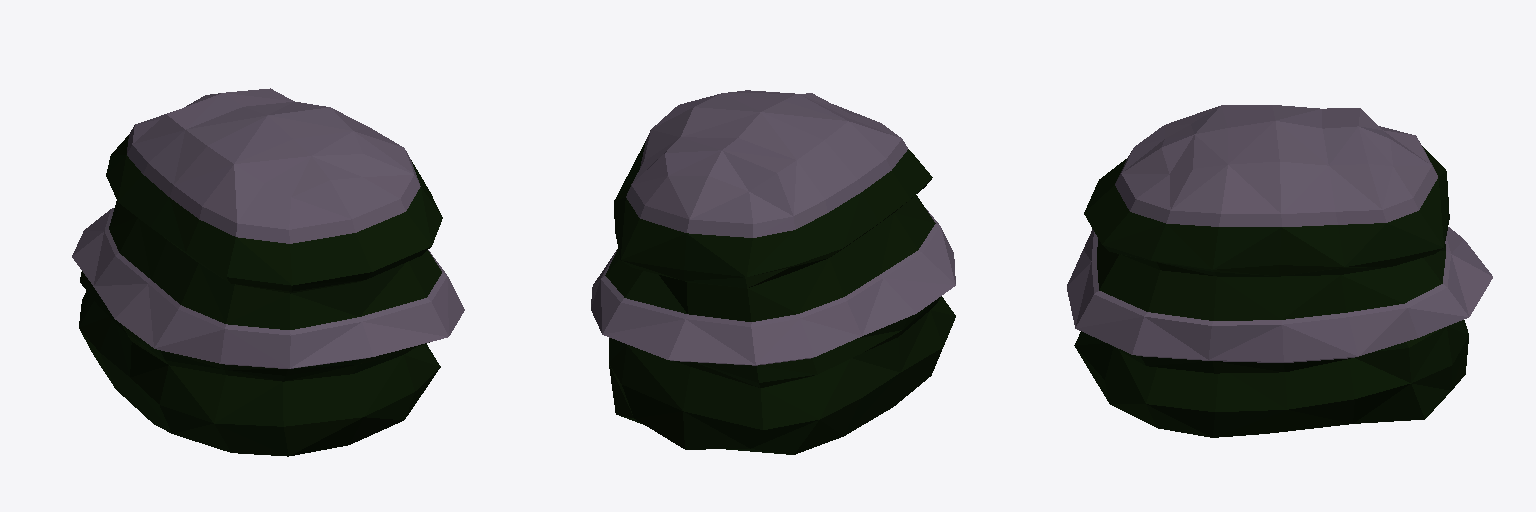
The model's file is Bush_Snow_1.obj.
3 views of the same model, side by side, from view 1: azimuth 30°, elevation 25°; view 2: azimuth 150°, elevation 25°; view 3: azimuth 270°, elevation 25° (orthographic).
Visible parts, largest first — view 1: Bush_Snow_1_Cube.131; view 2: Bush_Snow_1_Cube.131; view 3: Bush_Snow_1_Cube.131.
Part boxes in pixels (x1,y1,x2,y2): Bush_Snow_1_Cube.131: (72, 88, 464, 456); Bush_Snow_1_Cube.131: (591, 90, 955, 454); Bush_Snow_1_Cube.131: (1067, 105, 1492, 437).
Size of the model in its own units: 1.39 by 1.28 by 1.78.